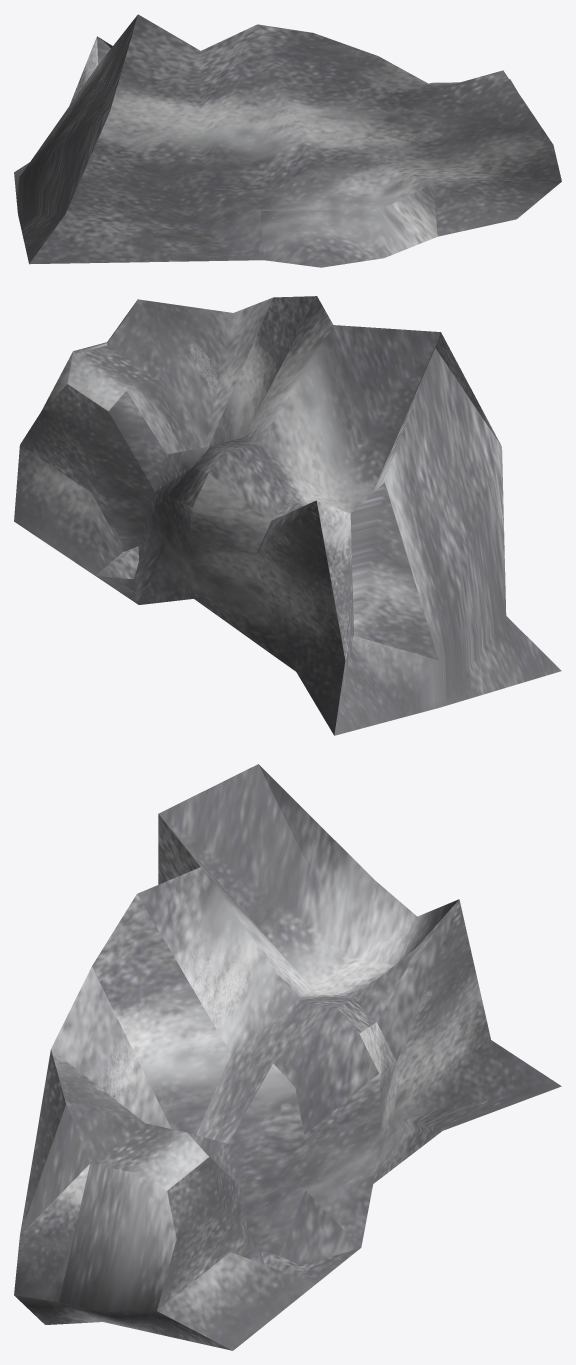
The model's file is Mountain22 - Level 1.FBX.
3 views of the same model, one above another, from view 1: azimuth 30°, elevation 25°; view 2: azimuth 150°, elevation 25°; view 3: azimuth 270°, elevation 25° (orthographic). The views are drawn at different scales.
Visible parts, largest first — view 1: Mountain 22; view 2: Mountain 22; view 3: Mountain 22.
Boxes of the visible parts, left/top/right/bottom form: Mountain 22: left=14, top=14, right=561, bottom=267; Mountain 22: left=14, top=296, right=561, bottom=735; Mountain 22: left=14, top=764, right=561, bottom=1350.
Bounding box in the file's own units: 254 × 118 × 173.
1 material, 1 textured.
